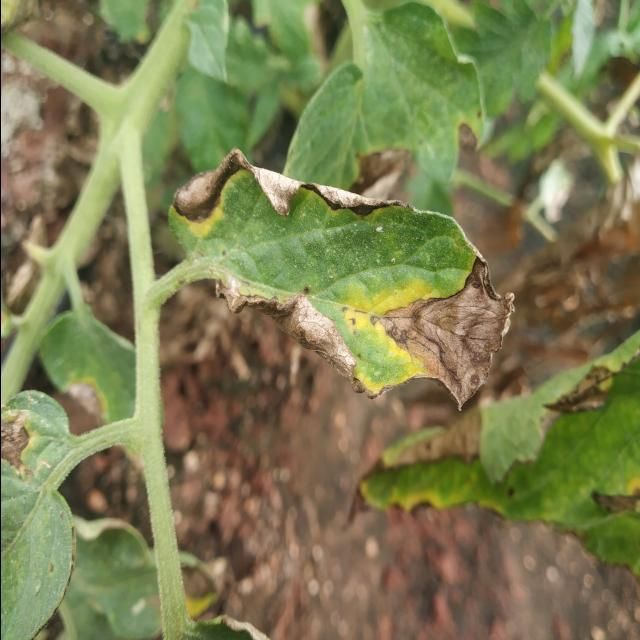Tomato mosaic virus leaf: (159, 136, 522, 414)
